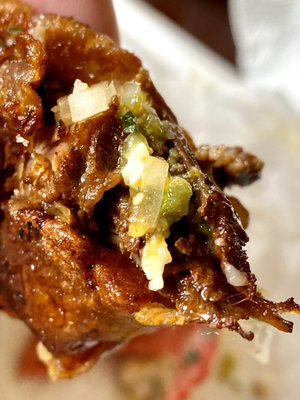pizza: (226, 0, 300, 95)
